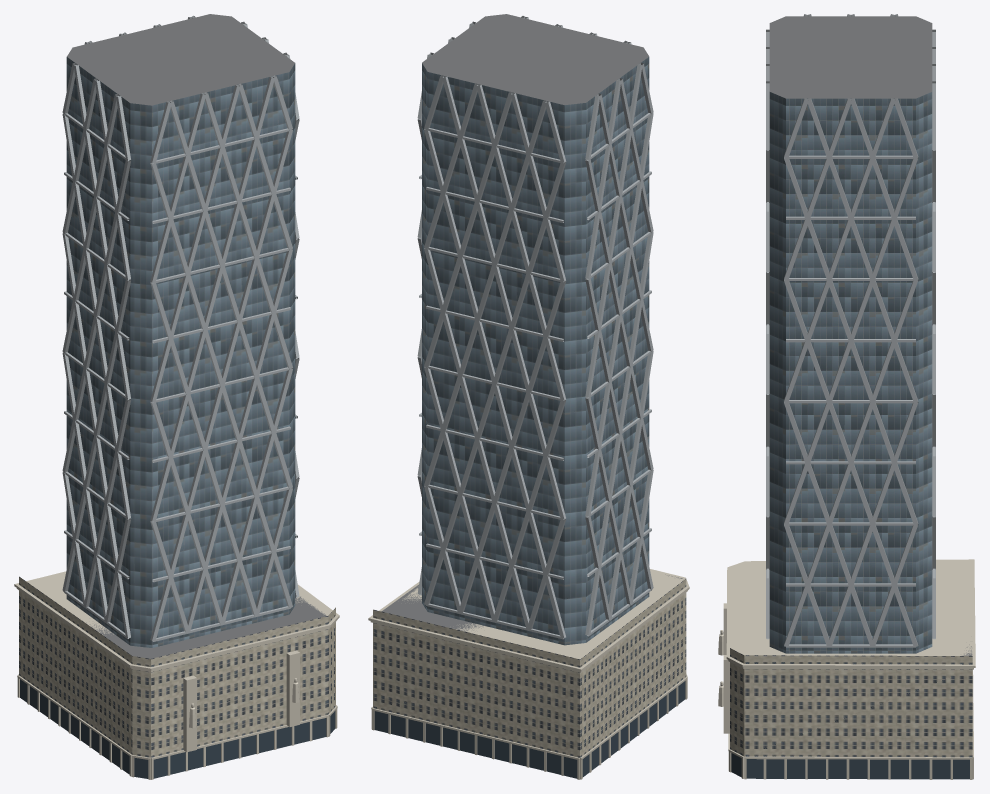
Rendered from hearst_tower.glb.
3 renders of one model, left to right at view 1: azimuth 30°, elevation 25°; view 2: azimuth 150°, elevation 25°; view 3: azimuth 270°, elevation 25°, orthographic. The views are drawn at different scales.
Parts seen in each view (by area): view 1: hearst_tower; view 2: hearst_tower; view 3: hearst_tower.
Part boxes in pixels (box(x1,y1,x2,y2)): hearst_tower: box(14, 14, 339, 779); hearst_tower: box(368, 14, 689, 779); hearst_tower: box(718, 14, 975, 779).
Size of the model in its own units: 62.03 by 182 by 63.41.
Materials: 3 (3 with a texture image).
